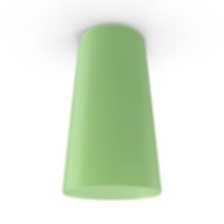glass: (57, 17, 168, 207)
